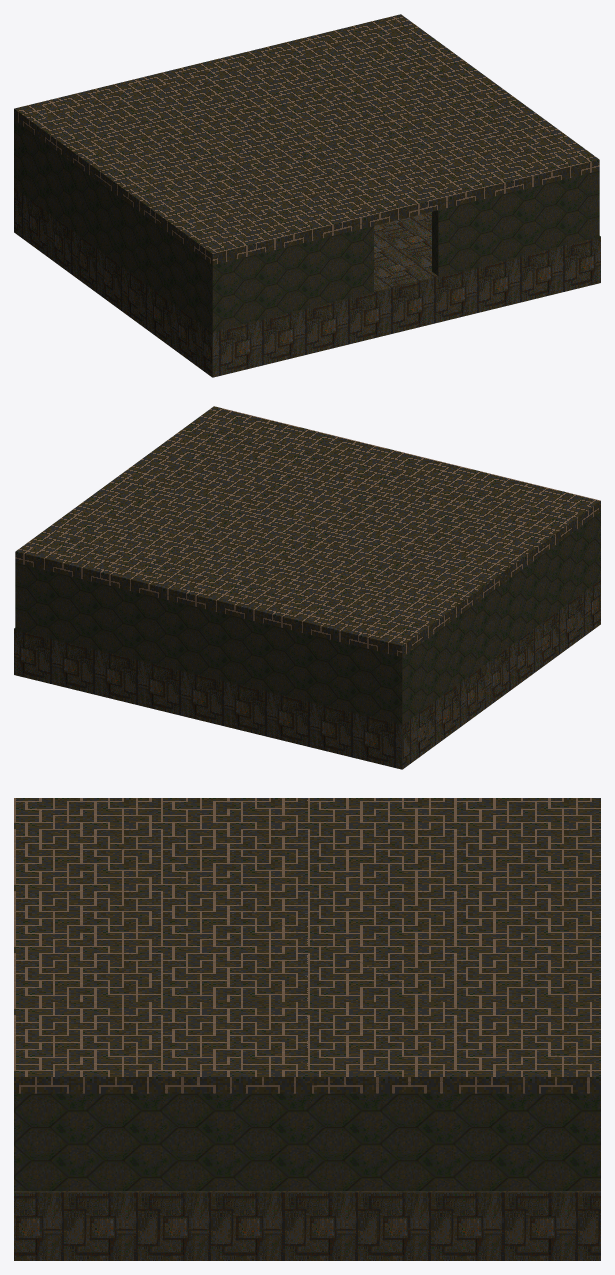
Rendered from room1.obj.
The picture shows the model from 3 angles, top to bottom: view 1: azimuth 30°, elevation 25°; view 2: azimuth 150°, elevation 25°; view 3: azimuth 270°, elevation 25°; orthographic projection. The views are drawn at different scales.
Visible parts, largest first — view 1: entity1_brush4, entity1_brush1, entity1_brush3, entity1_brush5, entity1_brush6, entity1_brush0; view 2: entity1_brush4, entity1_brush1, entity1_brush2, entity1_brush3; view 3: entity1_brush4, entity1_brush0, entity1_brush1, entity1_brush2.
Part boxes in pixels (x1,y1,x2,y2): entity1_brush4: (14, 14, 599, 265); entity1_brush1: (14, 187, 600, 377); entity1_brush3: (20, 125, 223, 332); entity1_brush5: (432, 173, 588, 277); entity1_brush6: (223, 226, 373, 329); entity1_brush0: (589, 171, 599, 239); entity1_brush4: (15, 406, 600, 657); entity1_brush1: (14, 579, 600, 769); entity1_brush2: (15, 563, 408, 724); entity1_brush3: (408, 512, 600, 719); entity1_brush4: (14, 798, 600, 1093); entity1_brush0: (14, 1093, 582, 1191); entity1_brush1: (14, 1191, 600, 1260); entity1_brush2: (582, 1093, 600, 1191).
Bounding box in the file's own units: 289 × 88 × 256.
Materials: 3 (3 with a texture image).
